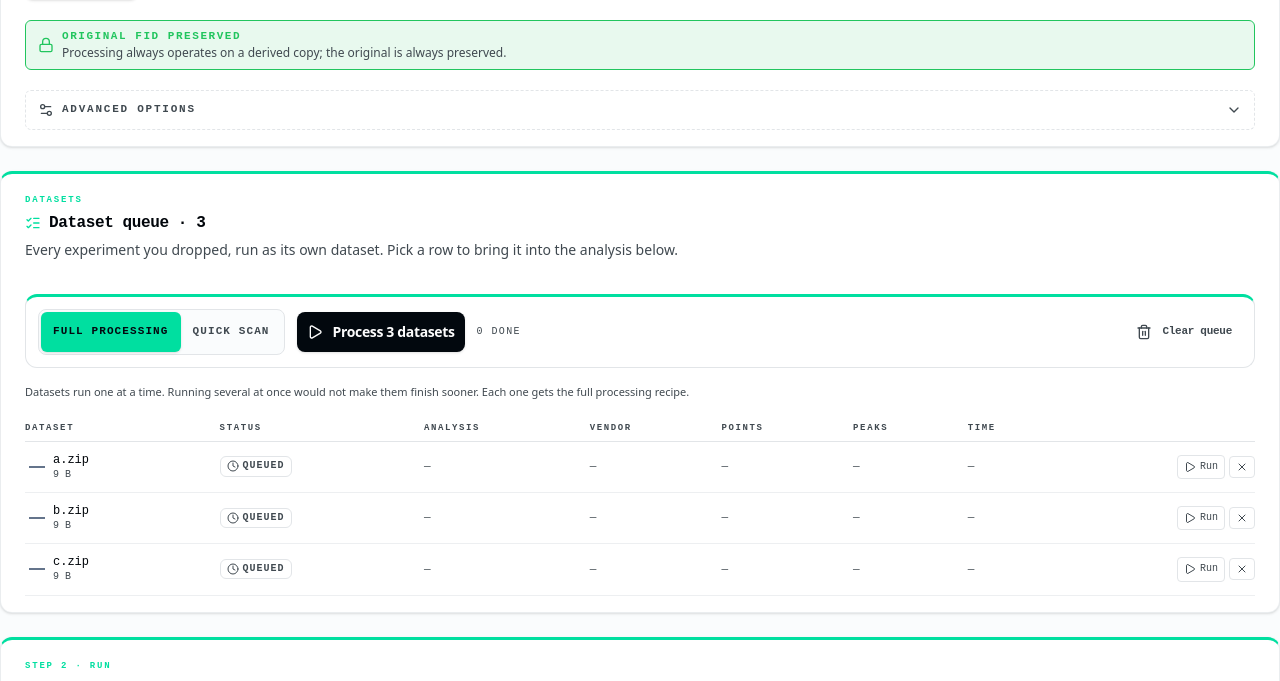
Test: running the queue › stops the whole run on a refusal that would repeat for every dataset
Earlier steps of the test are not shown.
(page scrolled)
Click the button with test id "raw-fid-queue-run-all" at (381, 332), box [296, 312, 465, 352]
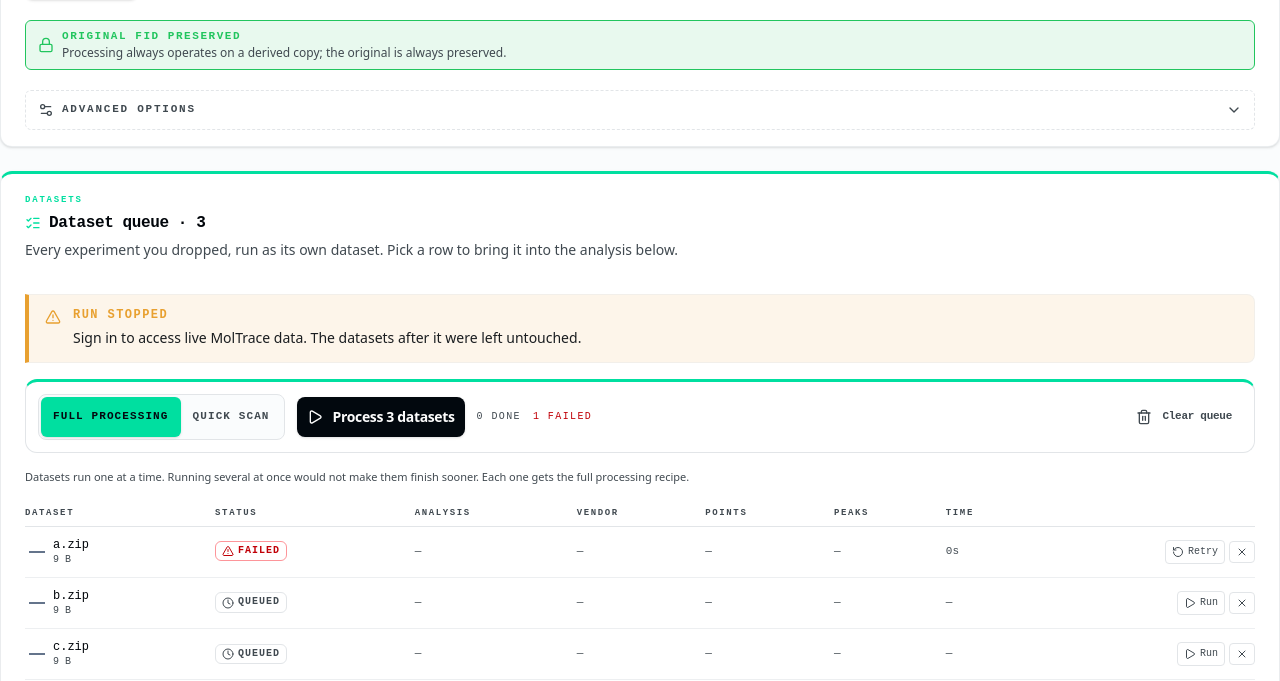
Result: the text "Run stopped" is shown at [73, 308, 168, 322]
